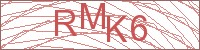6: (129, 13, 149, 42)
K: (106, 14, 130, 44)
M: (79, 2, 107, 30)
R: (51, 8, 80, 38)
